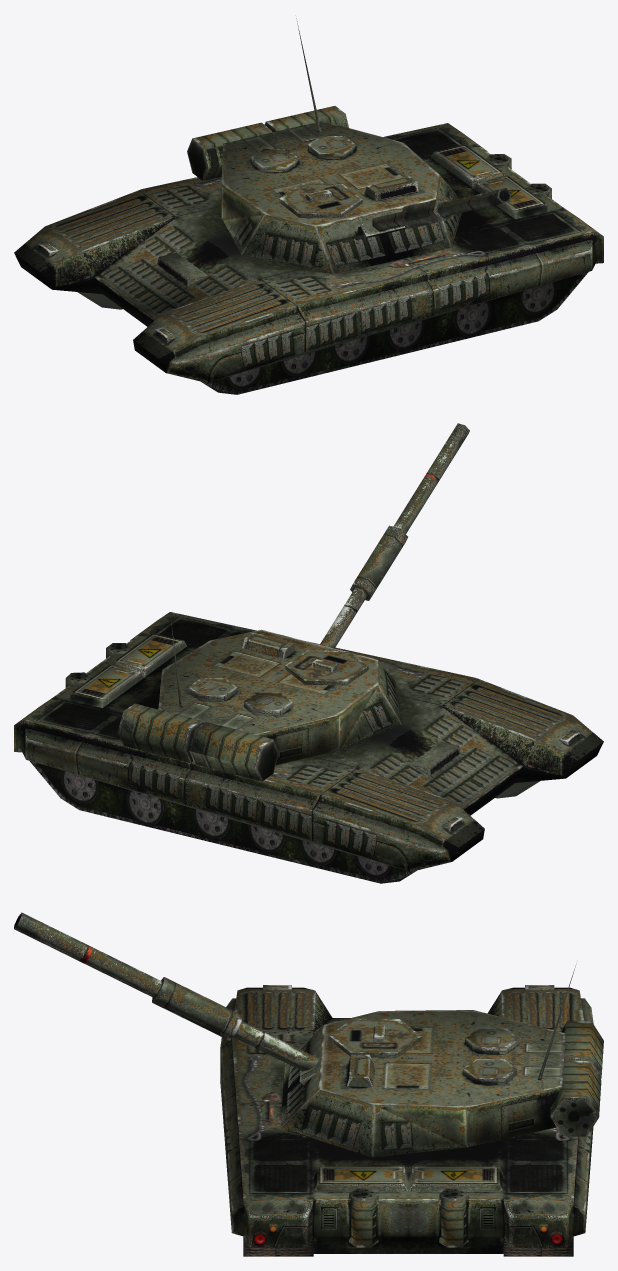
The model's file is tank.glb.
The picture shows the model from 3 angles, top to bottom: view 1: azimuth 30°, elevation 25°; view 2: azimuth 150°, elevation 25°; view 3: azimuth 270°, elevation 25°; orthographic projection. The views are drawn at different scales.
Visible parts, largest first — view 1: Plane02_03 - Default_0, Object01_03 - Default_0, Cylinder01_03 - Default_0; view 2: Plane02_03 - Default_0, Object01_03 - Default_0, Cylinder01_03 - Default_0; view 3: Plane02_03 - Default_0, Object01_03 - Default_0, Cylinder01_03 - Default_0.
Part boxes in pixels (<box>): Plane02_03 - Default_0: <box>14,123,603,394</box>; Object01_03 - Default_0: <box>187,18,461,274</box>; Cylinder01_03 - Default_0: <box>360,188,511,238</box>; Plane02_03 - Default_0: <box>14,612,603,883</box>; Object01_03 - Default_0: <box>117,618,401,781</box>; Cylinder01_03 - Default_0: <box>320,423,469,648</box>; Plane02_03 - Default_0: <box>220,985,593,1256</box>; Object01_03 - Default_0: <box>280,964,603,1157</box>; Cylinder01_03 - Default_0: <box>14,912,318,1085</box>.
Bounding box in the file's own units: 1.67 × 0.8536 × 1.71.
Materials: 1 (1 with a texture image).
